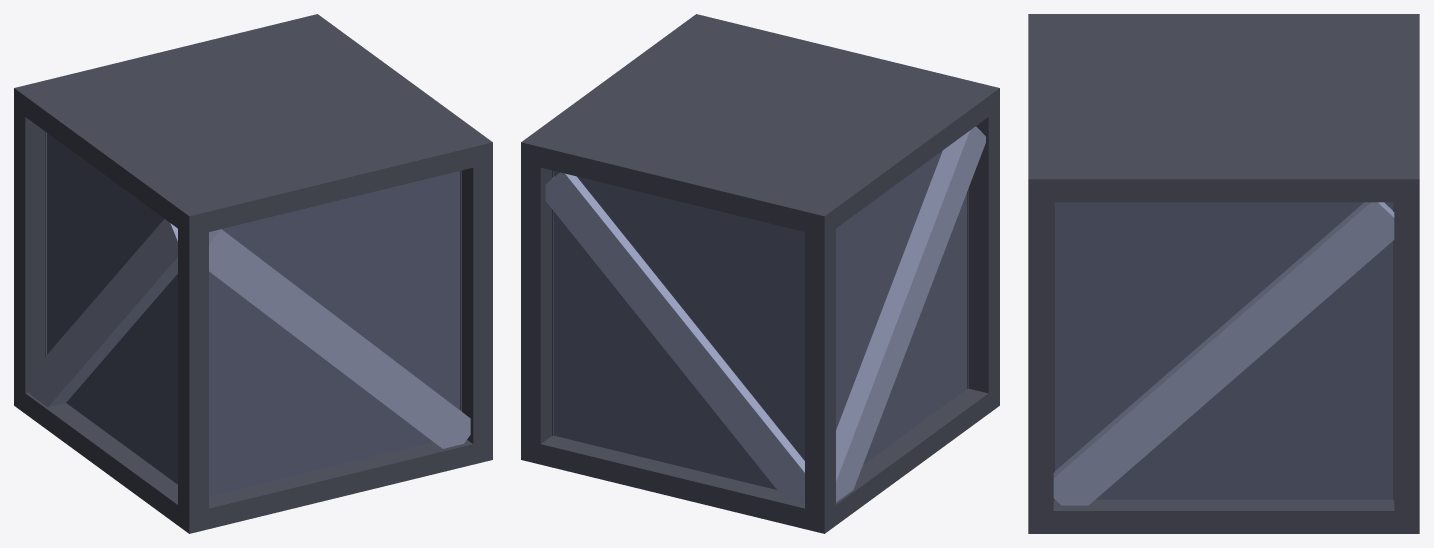
File: crate.glb
3 renders of one model, left to right at view 1: azimuth 30°, elevation 25°; view 2: azimuth 150°, elevation 25°; view 3: azimuth 270°, elevation 25°, orthographic. The views are drawn at different scales.
Visible parts, largest first — view 1: Crate; view 2: Crate; view 3: Crate.
Part boxes in pixels (x1=…): Crate: x1=14, y1=14, x2=492, y2=533; Crate: x1=521, y1=14, x2=999, y2=533; Crate: x1=1028, y1=14, x2=1419, y2=533.
Bounding box in the file's own units: 2 × 2 × 2.
1 material, 1 textured.
